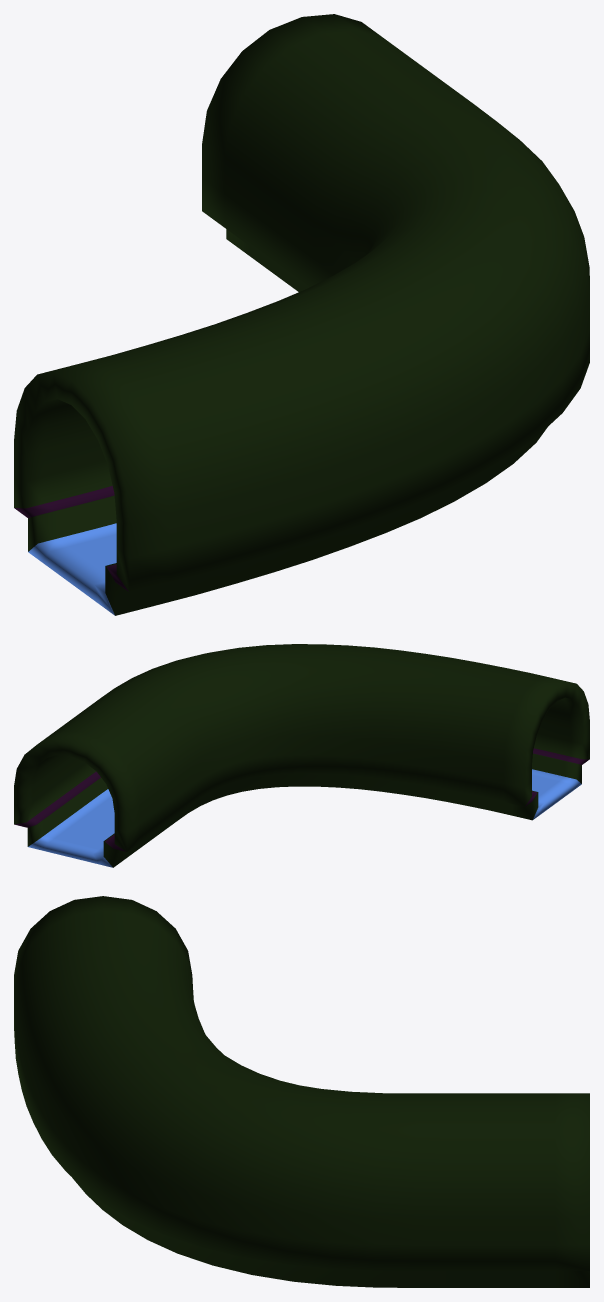
The model's file is SewerModule_Turn_1_001.fbx.
The picture shows the model from 3 angles, top to bottom: view 1: azimuth 30°, elevation 25°; view 2: azimuth 150°, elevation 25°; view 3: azimuth 270°, elevation 25°; orthographic projection. The views are drawn at different scales.
Visible parts, largest first — view 1: Module_straight.main.013; view 2: Module_straight.main.013; view 3: Module_straight.main.013.
Part boxes in pixels (<box>): Module_straight.main.013: <box>14,14,589,615</box>; Module_straight.main.013: <box>14,644,589,867</box>; Module_straight.main.013: <box>14,896,589,1287</box>.
Bounding box in the file's own units: 33.13 × 10.01 × 33.13.
